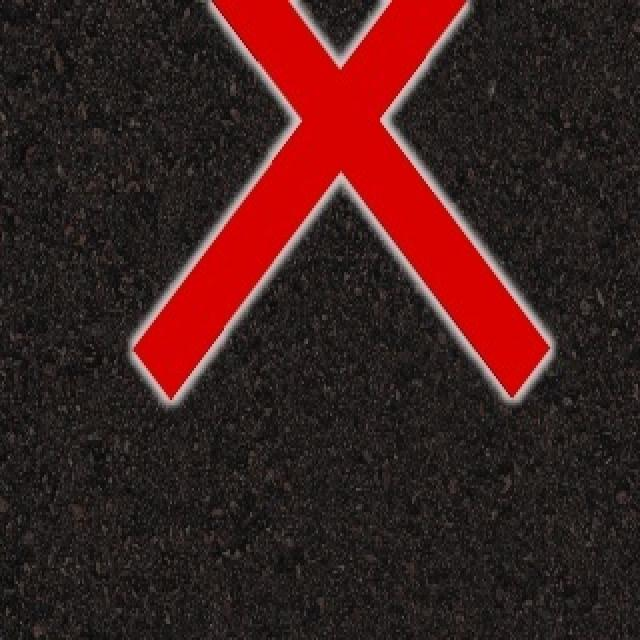x_marker: (133, 0, 549, 400)
